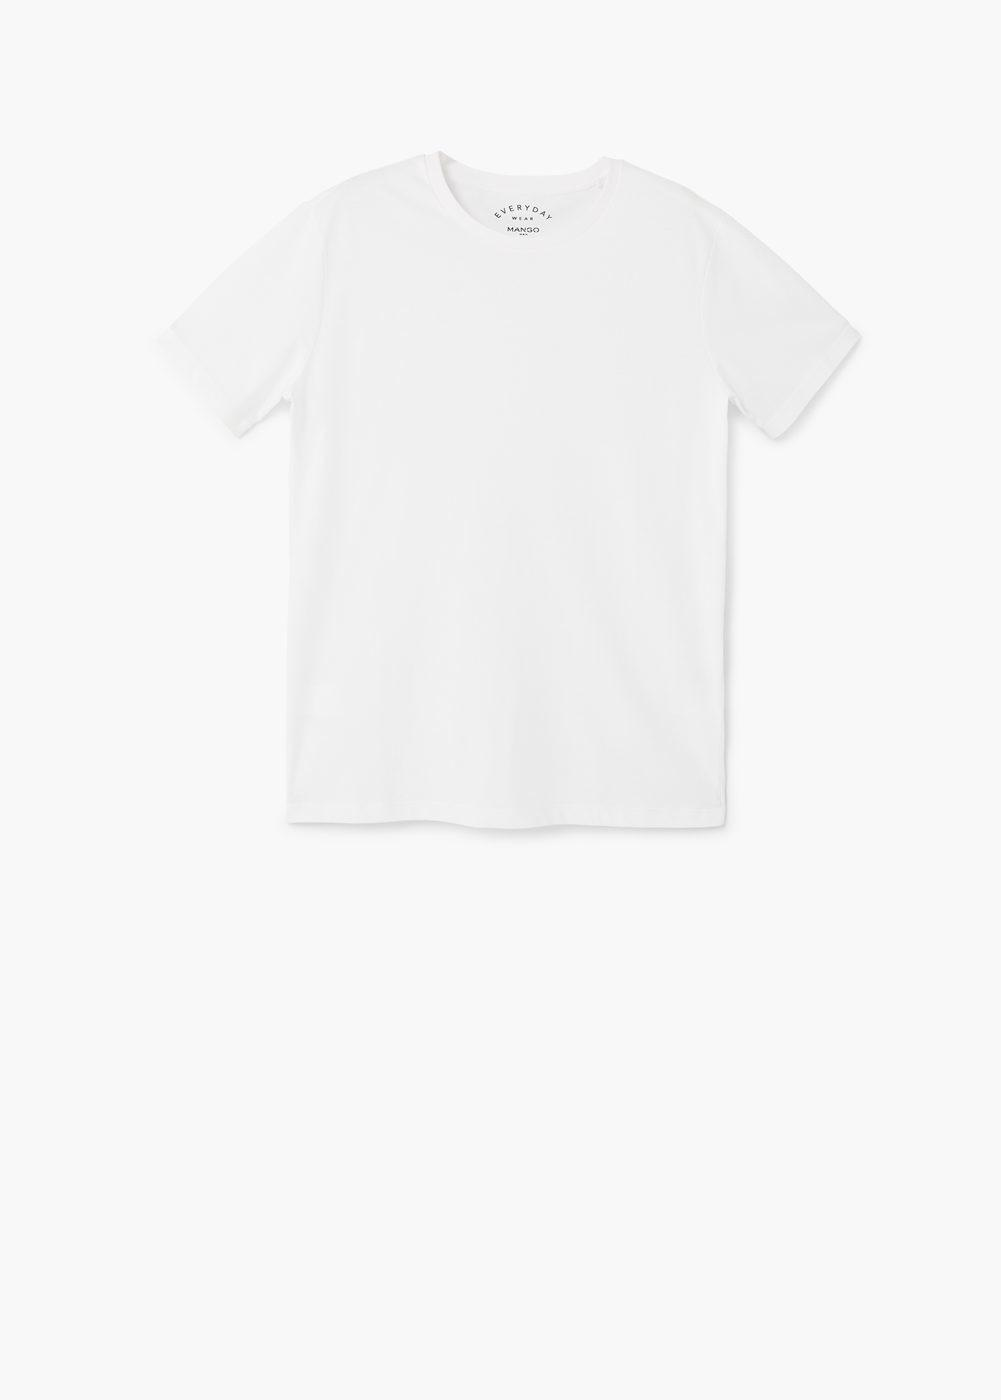teeshirt: (146, 142, 897, 918)
